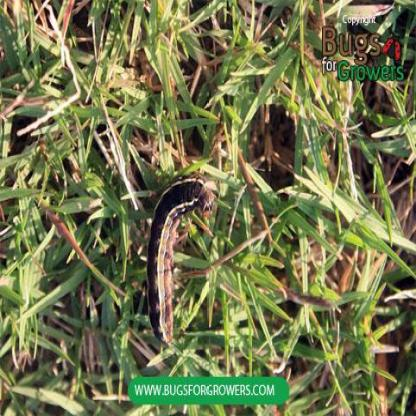armyworm: (143, 176, 211, 346)
